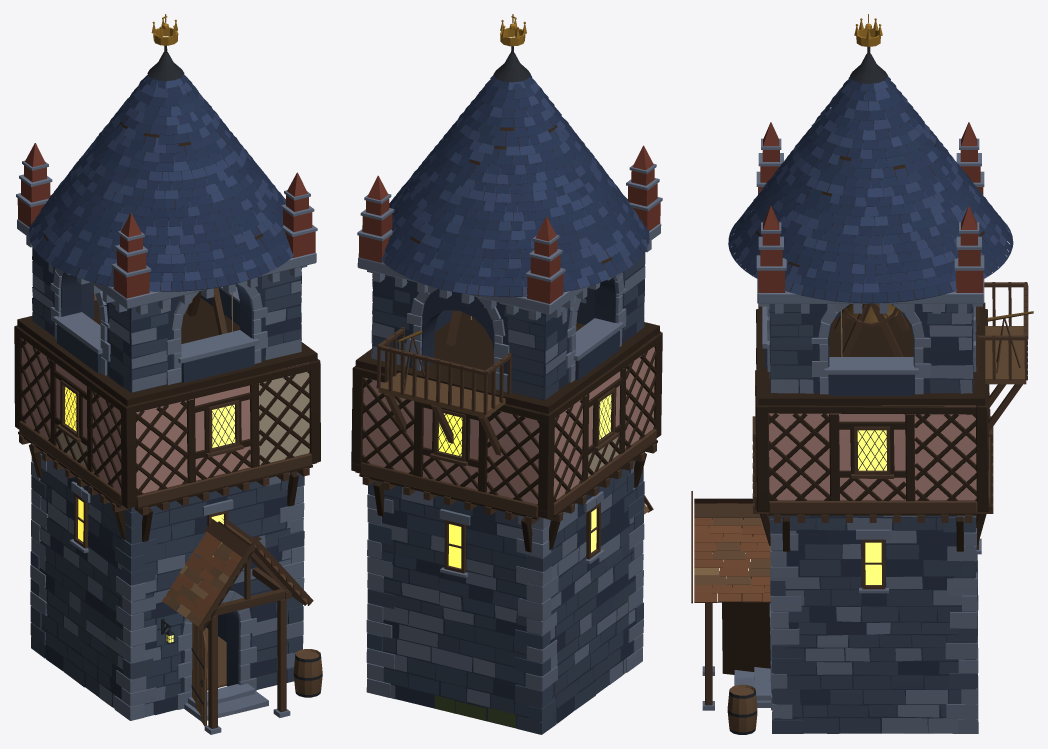
Rendered from bell_tower.glb.
3 views of the same model, side by side, from view 1: azimuth 30°, elevation 25°; view 2: azimuth 150°, elevation 25°; view 3: azimuth 270°, elevation 25° (orthographic). The views are drawn at different scales.
Parts seen in each view (by area): view 1: isl_bell_tower; view 2: isl_bell_tower; view 3: isl_bell_tower.
Part boxes in pixels (x1,y1,x2,y2): isl_bell_tower: (14, 14, 322, 734); isl_bell_tower: (351, 14, 662, 734); isl_bell_tower: (691, 14, 1033, 734).
Bounding box in the file's own units: 5.9 × 15.41 × 7.1.
